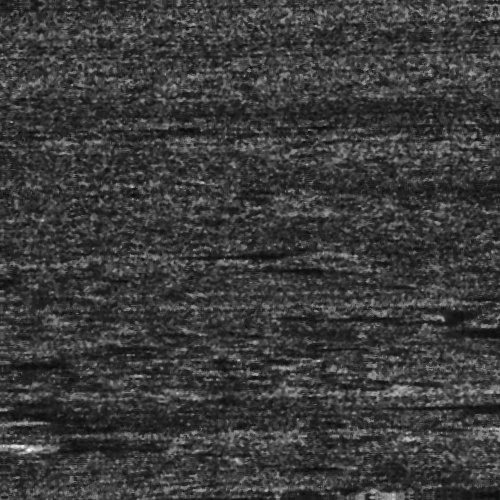object: (337, 492, 442, 500), (0, 435, 68, 446), (299, 252, 382, 259), (310, 265, 383, 272), (0, 413, 53, 420)
shadow: (122, 492, 389, 500), (247, 252, 340, 259), (253, 265, 346, 272), (393, 404, 500, 409), (0, 413, 21, 420)
